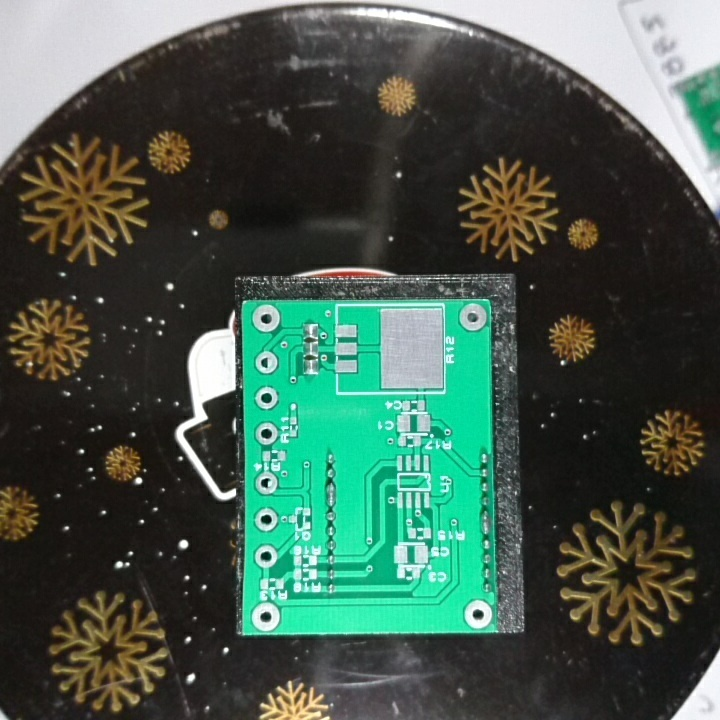F: (248, 599, 282, 633), (457, 300, 489, 336), (249, 302, 282, 336), (463, 598, 495, 629), (252, 384, 281, 411), (253, 470, 279, 498), (253, 506, 278, 535), (252, 543, 281, 568), (253, 351, 279, 377), (254, 421, 279, 448)
P: (322, 480, 339, 506), (477, 509, 493, 535)
